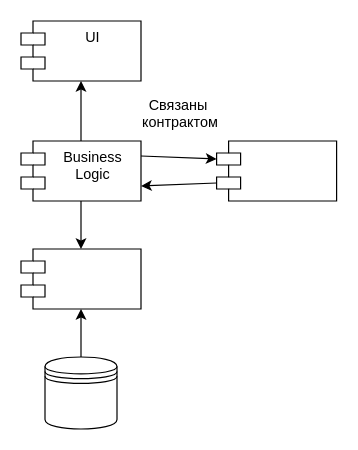
This 358x450 diagram has some shape labels left out. The centre of each missing label's shape, as x and y in pixels:
"Data Acess" belongs at pixel 80 278.
"Neural Network" belongs at pixel 276 170.
